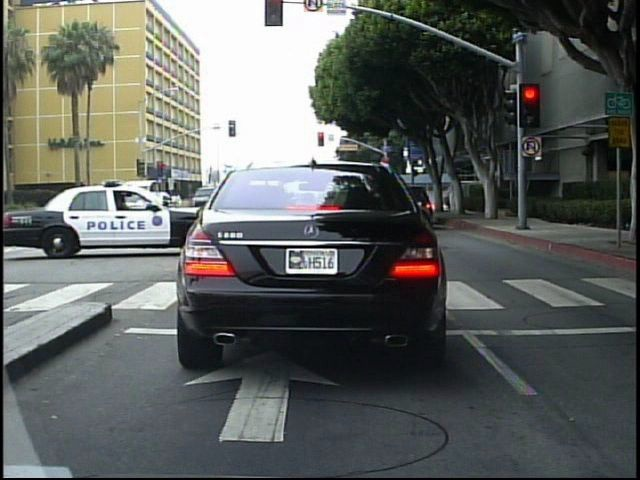person: (445, 180, 456, 216)
